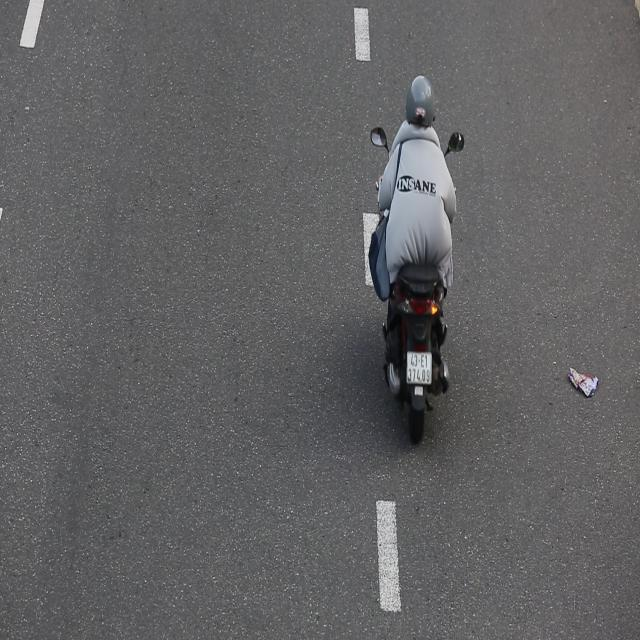motorbike: (357, 63, 468, 447)
